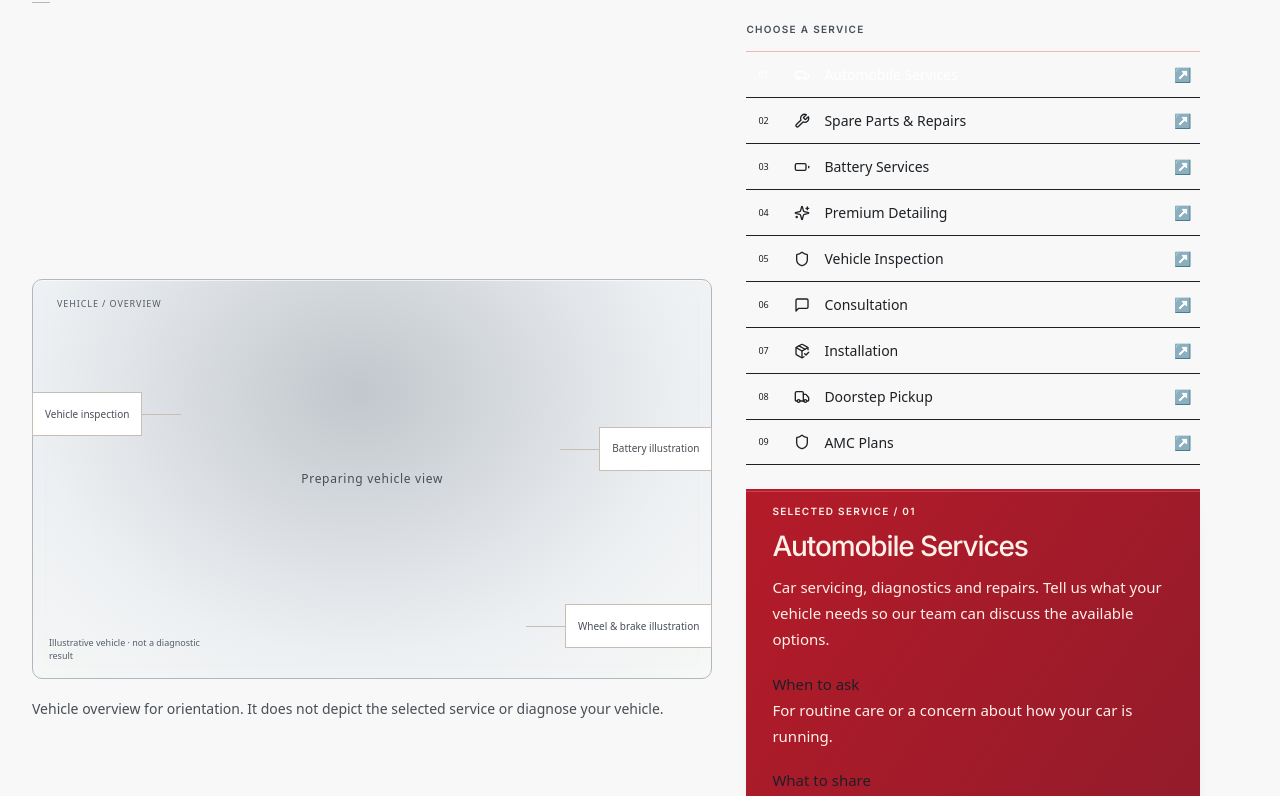
explains Doorstep Pickup and carries it into the one shared service request
Later steps or results of the test are not shown.
(page scrolled)
Click the button "08 Doorstep Pickup ↗".
click(879, 397)  # box top-left (746, 373), bottom-right (1200, 419)
(page scrolled)
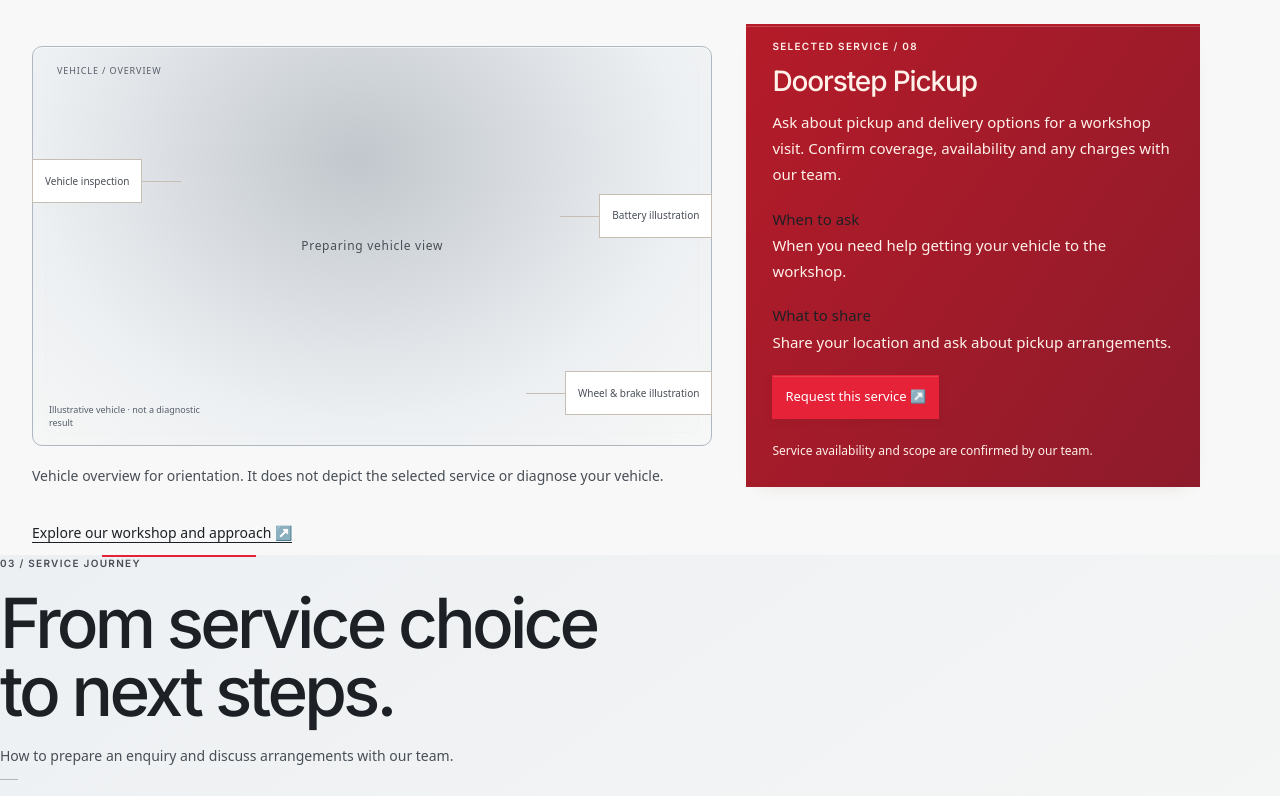
Expected: the heading "Doorstep Pickup" is shown, top-left (772, 64), bottom-right (977, 98)
Expected: the text "Ask about pickup and delivery options for a workshop visit. Confirm coverage, availability and any charges with our team" is shown, top-left (772, 112), bottom-right (1170, 184)
Expected: the text "When you need help getting your vehicle to the workshop." is shown, top-left (772, 235), bottom-right (1106, 281)
Click the button "Request this service ↗".
click(856, 397)  # box top-left (772, 375), bottom-right (939, 419)
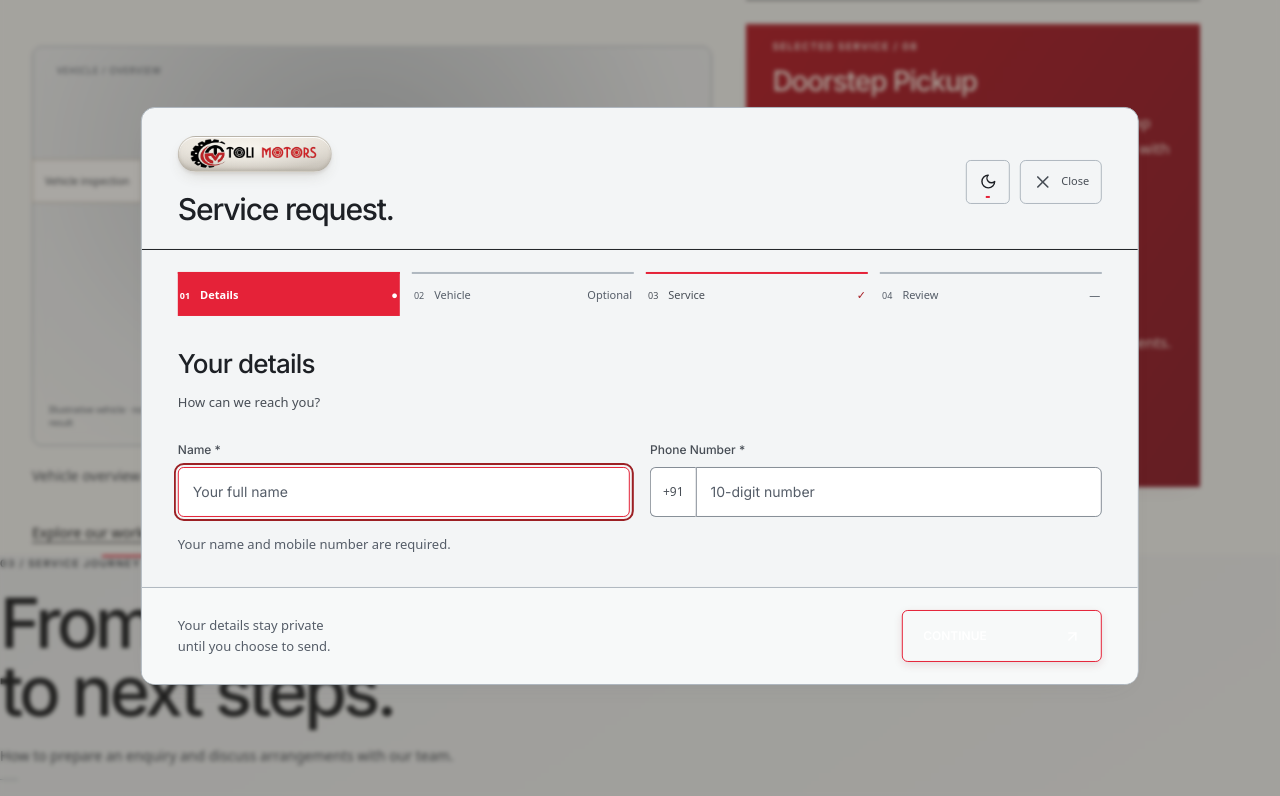
Expected: the field labelled "Name *" is shown, top-left (178, 467), bottom-right (630, 517)
